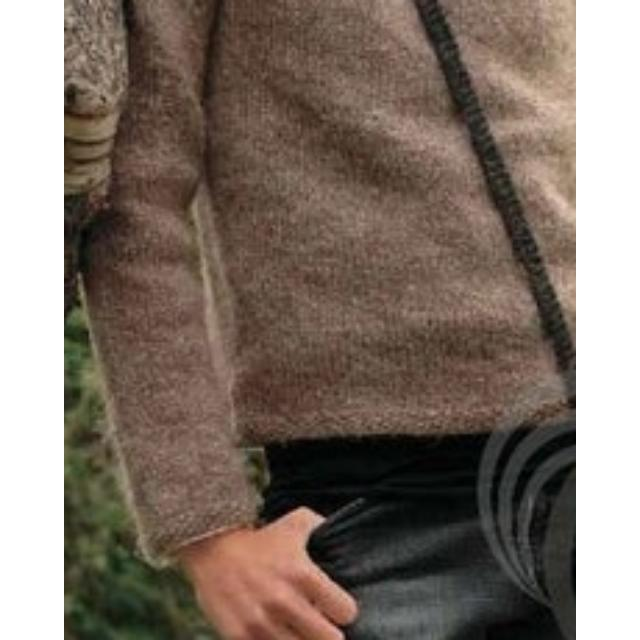wool: (80, 0, 576, 428)
